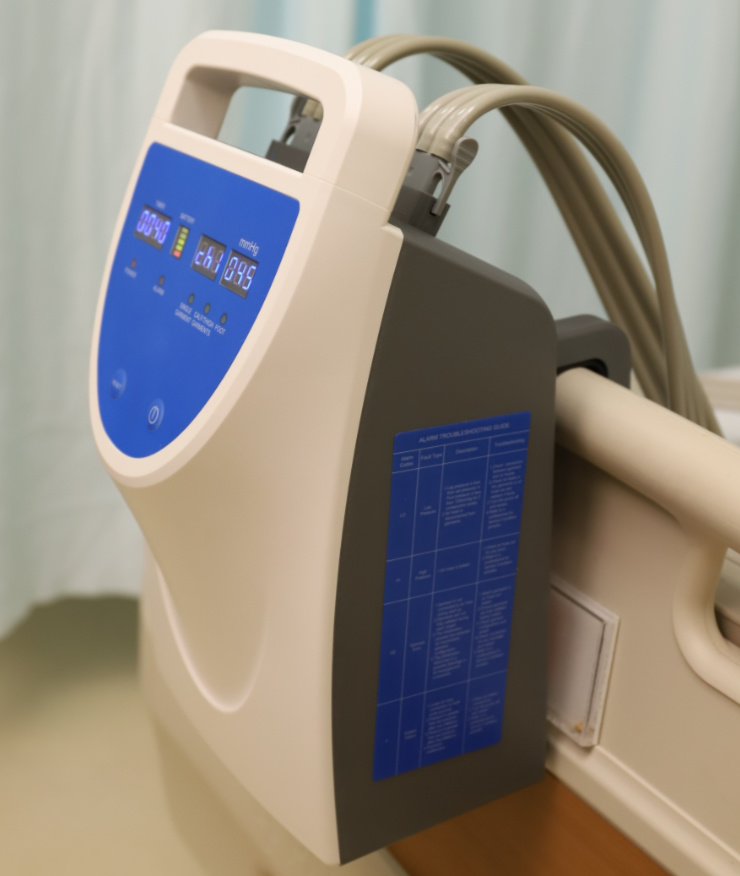sequential_compression: (84, 26, 720, 868)
